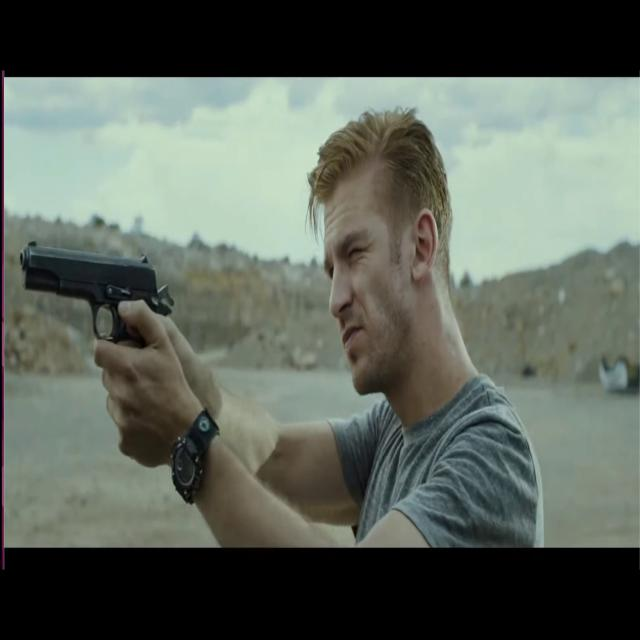weapons: (13, 224, 178, 385)
